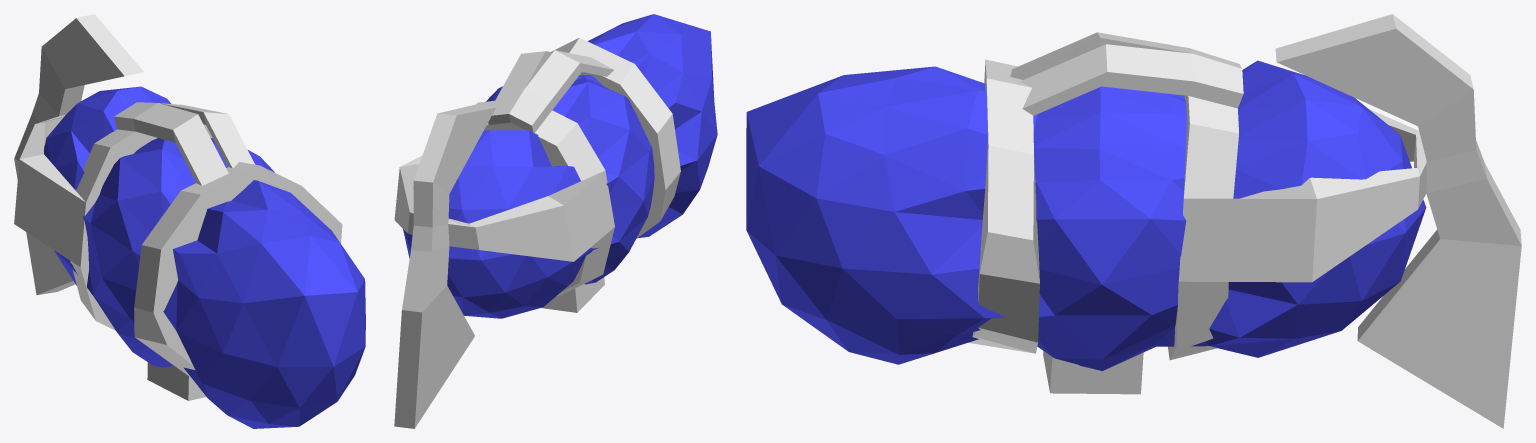
Rendered from warballoon.glb.
The picture shows the model from 3 angles, left to right: view 1: azimuth 30°, elevation 25°; view 2: azimuth 150°, elevation 25°; view 3: azimuth 270°, elevation 25°; orthographic projection. The views are drawn at different scales.
Visible parts, largest first — view 1: Icosphere.001, Cylinder.001, Cylinder, Cube; view 2: Icosphere.001, Cylinder.001, Cylinder, Cube; view 3: Icosphere.001, Cylinder.001, Cylinder, Cube.
Part boxes in pixels (<box>): Icosphere.001: <box>44,86,365,428</box>; Cylinder.001: <box>14,14,254,330</box>; Cylinder: <box>134,162,342,376</box>; Cube: <box>147,362,206,400</box>; Icosphere.001: <box>403,14,717,318</box>; Cylinder.001: <box>394,50,614,428</box>; Cylinder: <box>551,37,680,238</box>; Cube: <box>541,277,604,312</box>; Icosphere.001: <box>746,60,1426,370</box>; Cylinder.001: <box>1010,14,1521,428</box>; Cylinder: <box>968,59,1039,353</box>; Cube: <box>1043,351,1143,394</box>.
Bounding box in the file's own units: 6.08 × 8.75 × 15.38.
